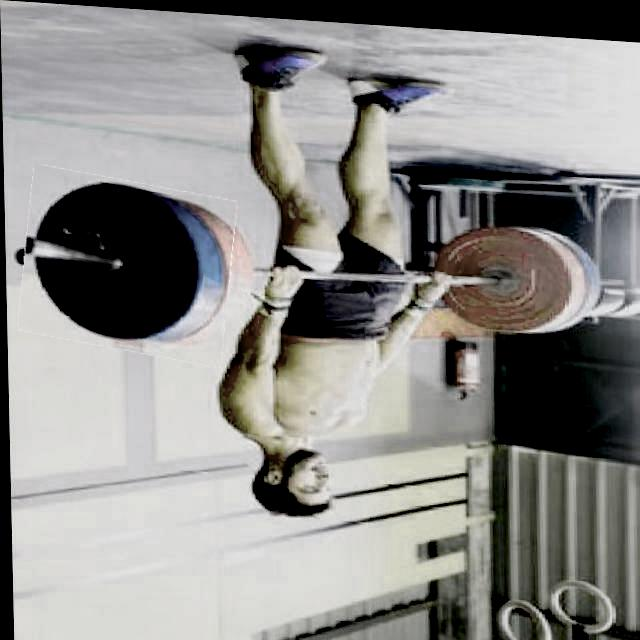barbell: (17, 168, 235, 360)
